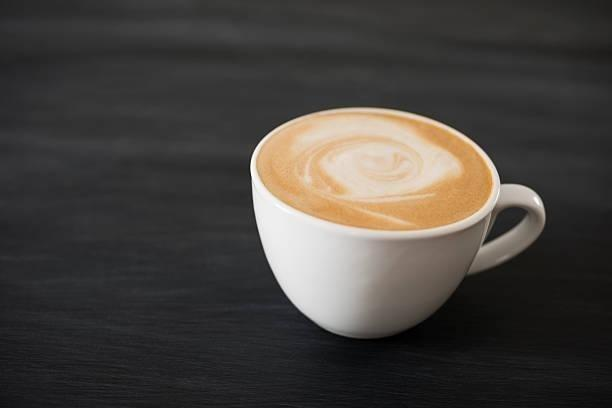cup-handle: (249, 104, 547, 340)
